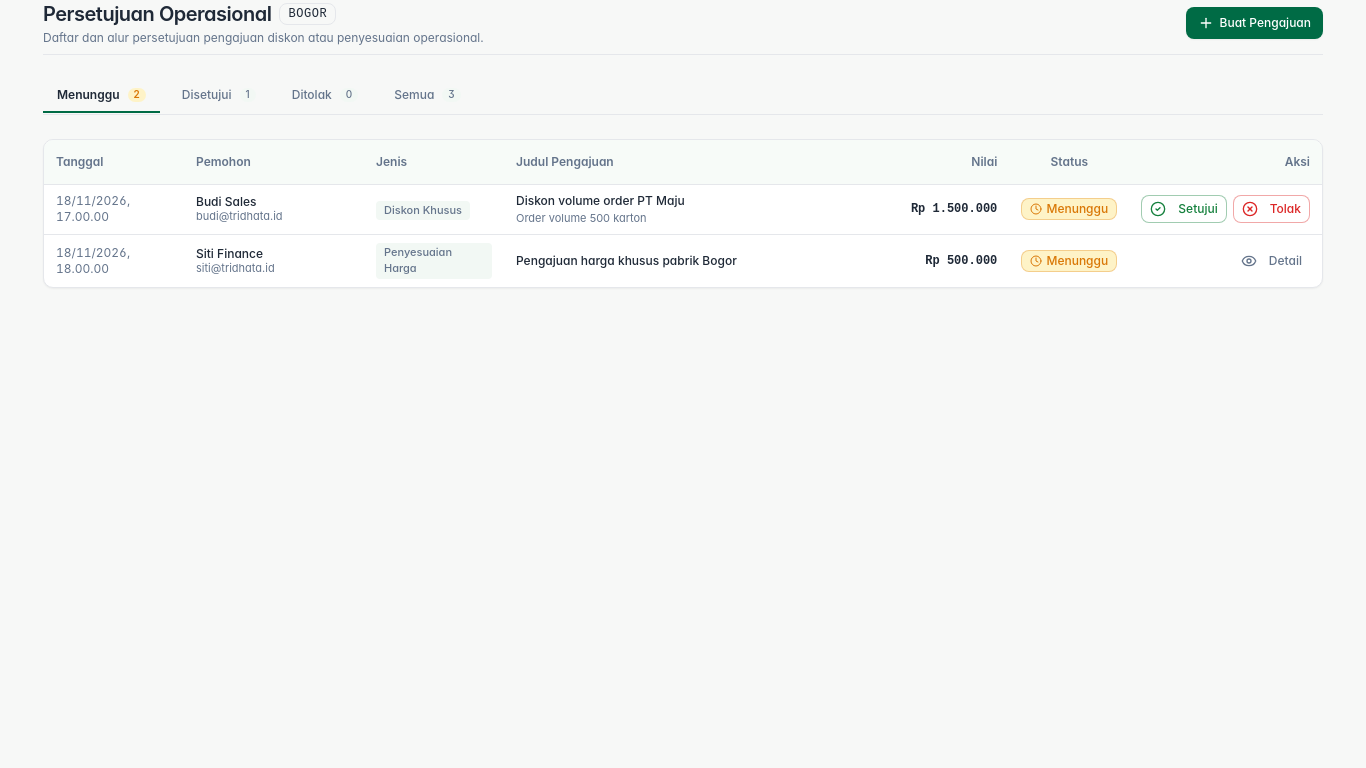
ApprovalsPage (SPEC Section 10.2 & Separation of Duties UI) › enforces Self-Approval Guard: Requester cannot decide their own request
Expected: the text "Pengajuan harga khusus pabrik Bogor" is shown, [516,253,737,268]
Click the text "Pengajuan harga khusus pabrik Bogor". click: (683, 261)
box: [44,235,1322,287]
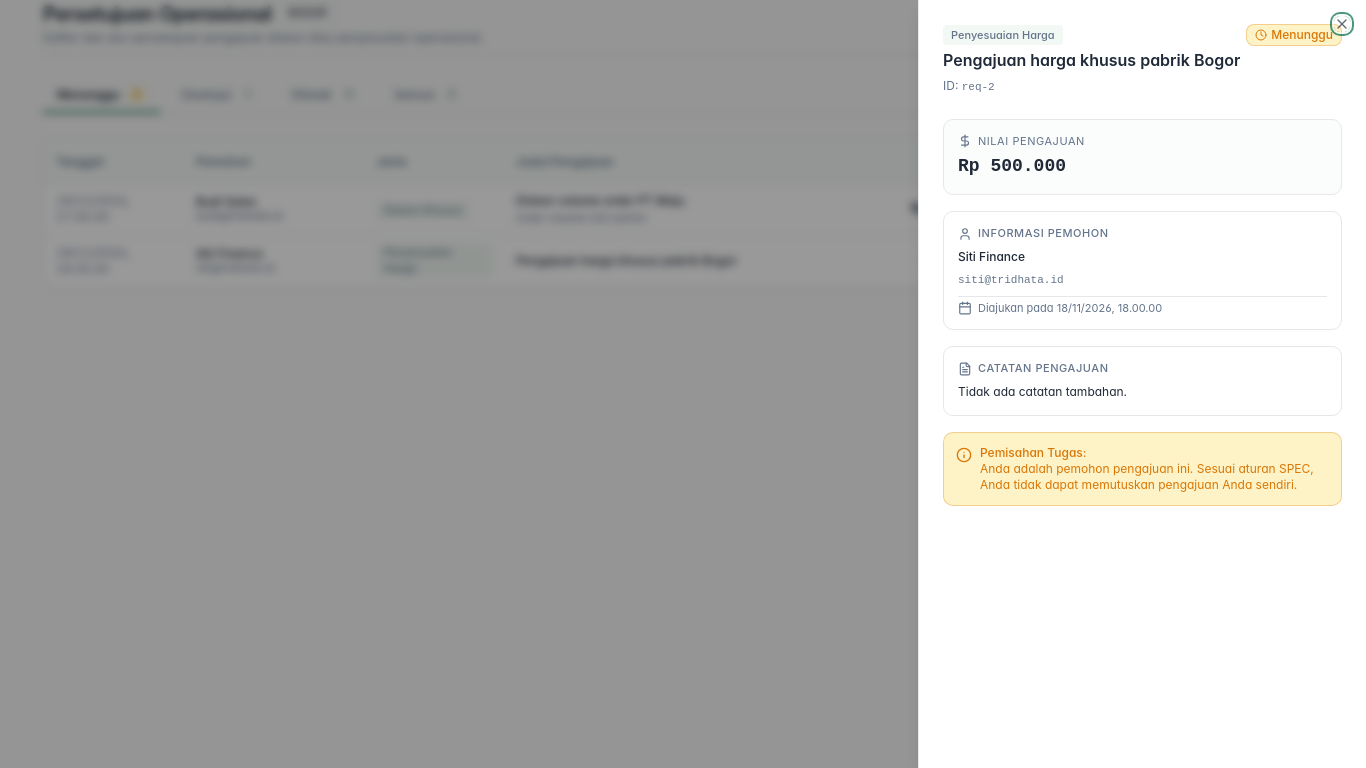
Expected: the text "Pemisahan Tugas:" is shown, [980,445,1086,460]
Expected: the text "tidak dapat memutuskan pengajuan Anda sendiri" is shown, [980,461,1314,492]
